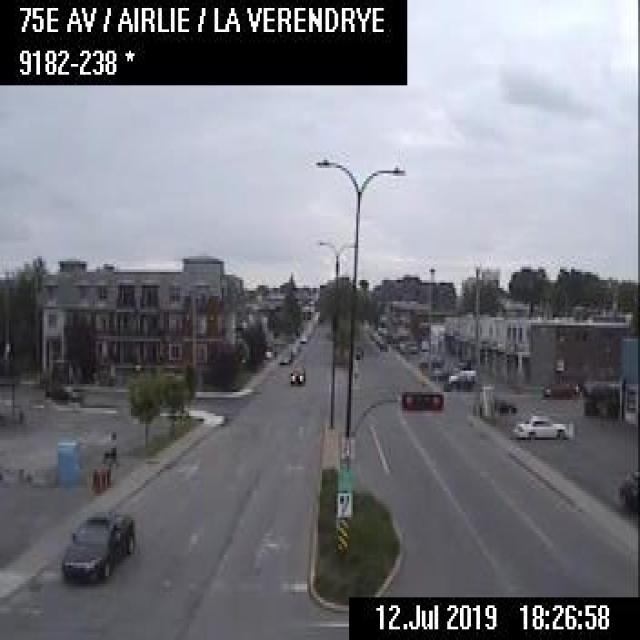construction: (93, 465, 99, 492), (98, 466, 104, 488), (103, 464, 109, 485)
pedestrian: (108, 428, 117, 466), (100, 427, 109, 462)
vehicle: (56, 508, 135, 584), (512, 410, 565, 440), (544, 376, 582, 398), (44, 382, 82, 402), (446, 367, 476, 385), (419, 352, 446, 371), (286, 368, 306, 387), (274, 349, 291, 365)
